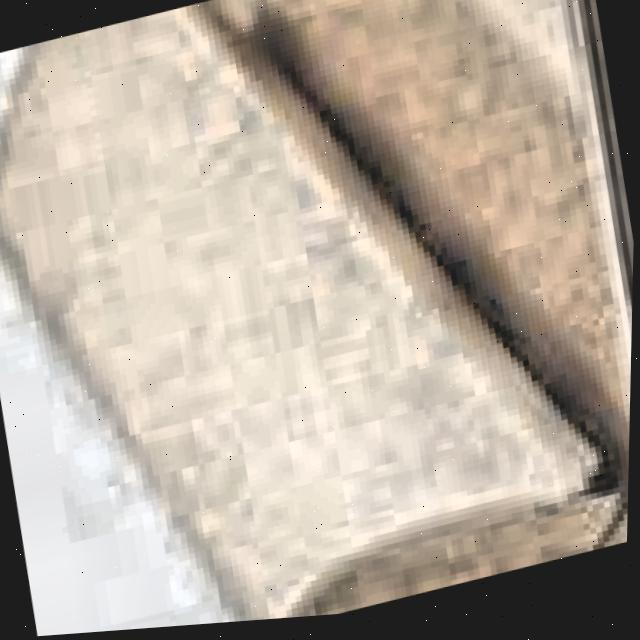paper: (0, 0, 635, 626)
